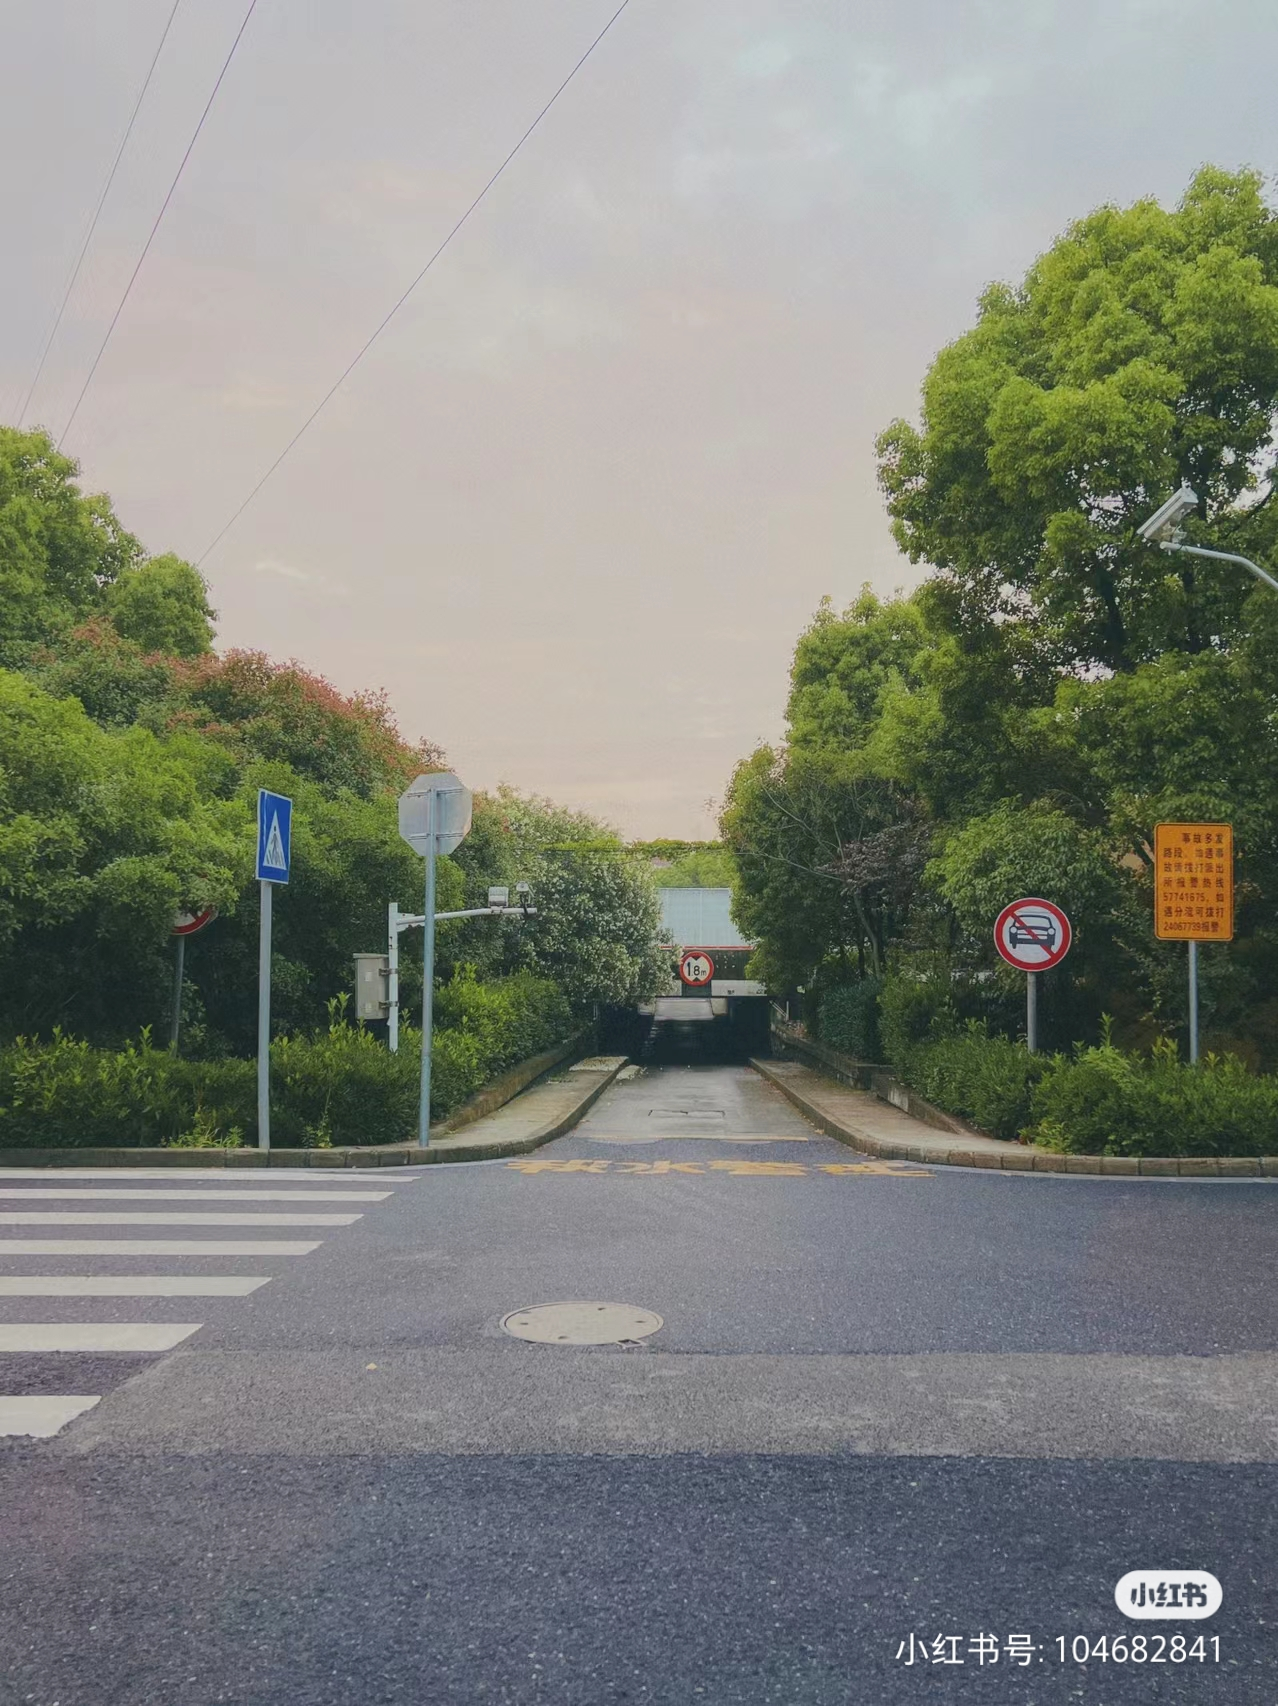ip: (258, 788, 291, 876)
p10: (993, 895, 1069, 968)
